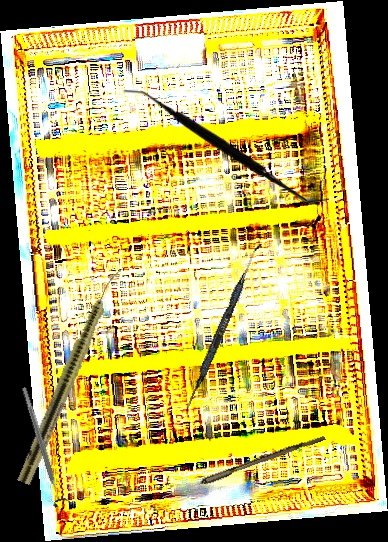Fixation Ring: (14, 384, 72, 509)
Handpiece: (16, 263, 125, 487)
Spatula Surgical: (122, 89, 329, 202), (184, 240, 262, 412)
Surgical Spoon: (160, 432, 326, 502)
